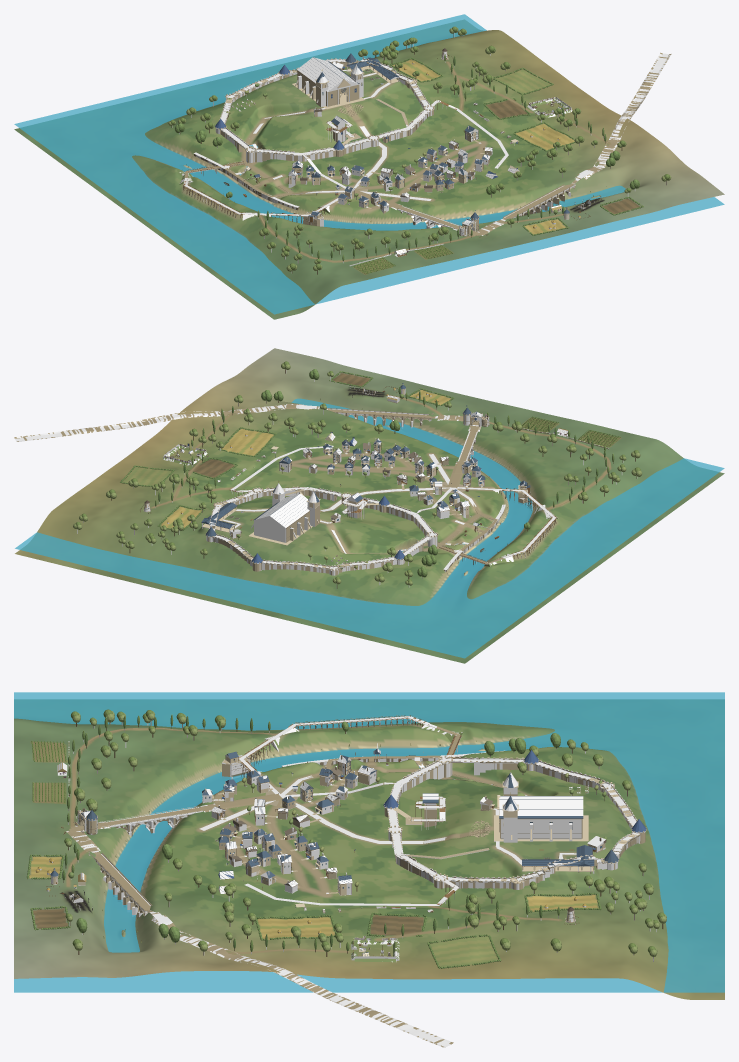
Rendered from world_orleans.glb.
3 views of the same model, one above another, from view 1: azimuth 30°, elevation 25°; view 2: azimuth 150°, elevation 25°; view 3: azimuth 270°, elevation 25° (orthographic). The views are drawn at different scales.
Parts seen in each view (by area): view 1: Terrain, Water, COL_Props, orleans_Trees_Leaves, orleans_RiverTown, orleans_CountrysideFoliage, orleans_Routes, orleans_CurtainWalls, orleans_Cathedral, orleans_CountryLanes, orleans_OrchardsAndLanes, orleans_HerbCloister (+3 smaller); view 2: Terrain, Water, COL_Props, orleans_Trees_Leaves, orleans_RiverTown, orleans_CurtainWalls, orleans_CountrysideFoliage, orleans_Routes, orleans_Cathedral, orleans_OrchardsAndLanes, orleans_CountryLanes, orleans_HerbCloister (+1 smaller); view 3: Terrain, Water, COL_Props, orleans_Trees_Leaves, orleans_RiverTown, orleans_Routes, orleans_CurtainWalls, orleans_CountrysideFoliage, orleans_Cathedral, orleans_CountryLanes, orleans_OrchardsAndLanes, orleans_HerbCloister (+3 smaller).
Boxes of the visible parts, x1,y1,x2,y2 form: Terrain: [14, 20, 724, 319]; Water: [14, 14, 724, 314]; COL_Props: [172, 33, 670, 273]; orleans_Trees_Leaves: [168, 26, 671, 271]; orleans_RiverTown: [288, 61, 492, 213]; orleans_CountrysideFoliage: [181, 54, 643, 273]; orleans_Routes: [185, 52, 671, 236]; orleans_CurtainWalls: [215, 53, 434, 162]; orleans_Cathedral: [292, 57, 364, 109]; orleans_CountryLanes: [259, 62, 611, 262]; orleans_OrchardsAndLanes: [260, 109, 484, 209]; orleans_HerbCloister: [347, 57, 399, 84]; Terrain: [15, 348, 724, 663]; Water: [15, 398, 724, 658]; COL_Props: [15, 370, 637, 588]; orleans_Trees_Leaves: [73, 361, 642, 585]; orleans_RiverTown: [229, 438, 485, 538]; orleans_CurtainWalls: [205, 486, 438, 575]; orleans_CountrysideFoliage: [120, 371, 620, 574]; orleans_Routes: [14, 404, 521, 563]; orleans_Cathedral: [249, 481, 321, 545]; orleans_OrchardsAndLanes: [292, 454, 491, 553]; orleans_CountryLanes: [152, 396, 610, 509]; orleans_HerbCloister: [201, 502, 252, 532]; Terrain: [14, 699, 724, 999]; Water: [14, 692, 724, 992]; COL_Props: [35, 715, 656, 1047]; orleans_Trees_Leaves: [64, 709, 666, 956]; orleans_RiverTown: [202, 754, 606, 895]; orleans_Routes: [66, 718, 564, 1047]; orleans_CurtainWalls: [383, 750, 646, 889]; orleans_CountrysideFoliage: [26, 714, 601, 968]; orleans_Cathedral: [494, 769, 588, 841]; orleans_CountryLanes: [66, 728, 559, 953]; orleans_OrchardsAndLanes: [216, 773, 357, 895]; orleans_HerbCloister: [522, 845, 594, 873].
Bounding box in the file's own units: 886 × 93.5 × 720.
